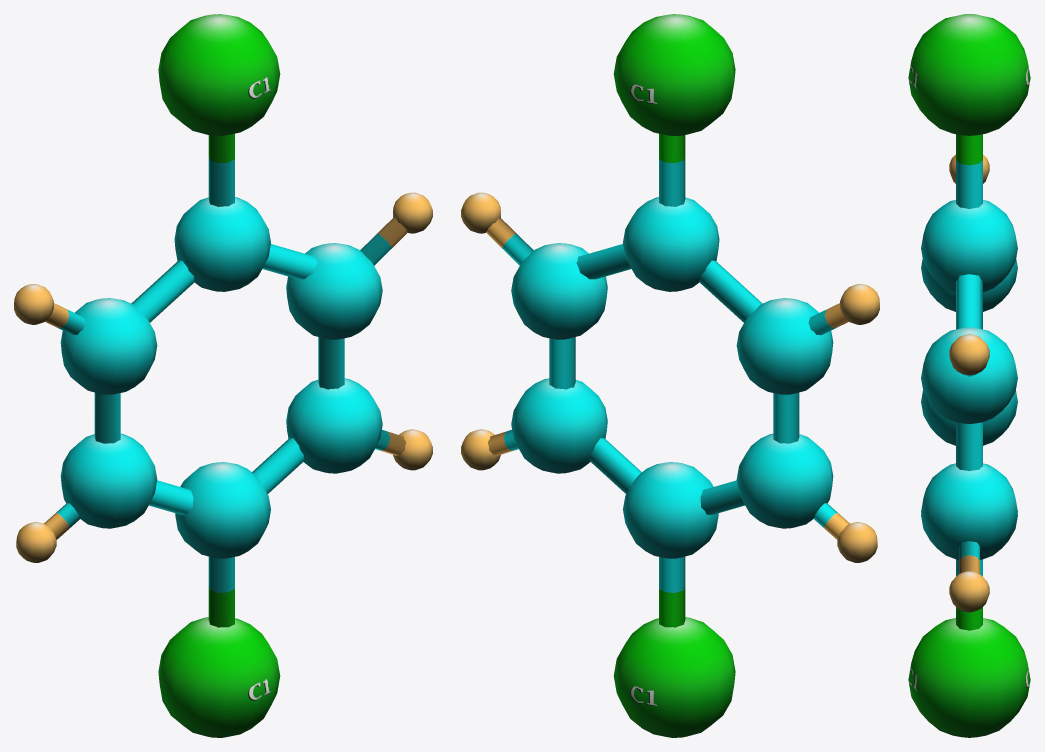
Rendered from P_Dichlorobenzene.dae.
The picture shows the model from 3 angles, left to right: view 1: azimuth 30°, elevation 25°; view 2: azimuth 150°, elevation 25°; view 3: azimuth 270°, elevation 25°; orthographic projection.
Parts seen in each view (by area): view 1: polySurface2; view 2: polySurface2; view 3: polySurface2.
Boxes of the visible parts, x1,y1,x2,y2 form: polySurface2: (14,14,432,737); polySurface2: (461,14,879,737); polySurface2: (908,14,1030,737).
Bounding box in the file's own units: 3.51 × 5.79 × 0.899.
Materials: 1 (1 with a texture image).
